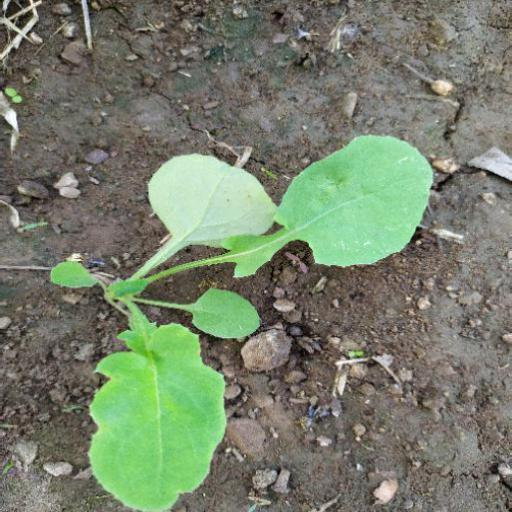weed: (46, 133, 437, 512)
